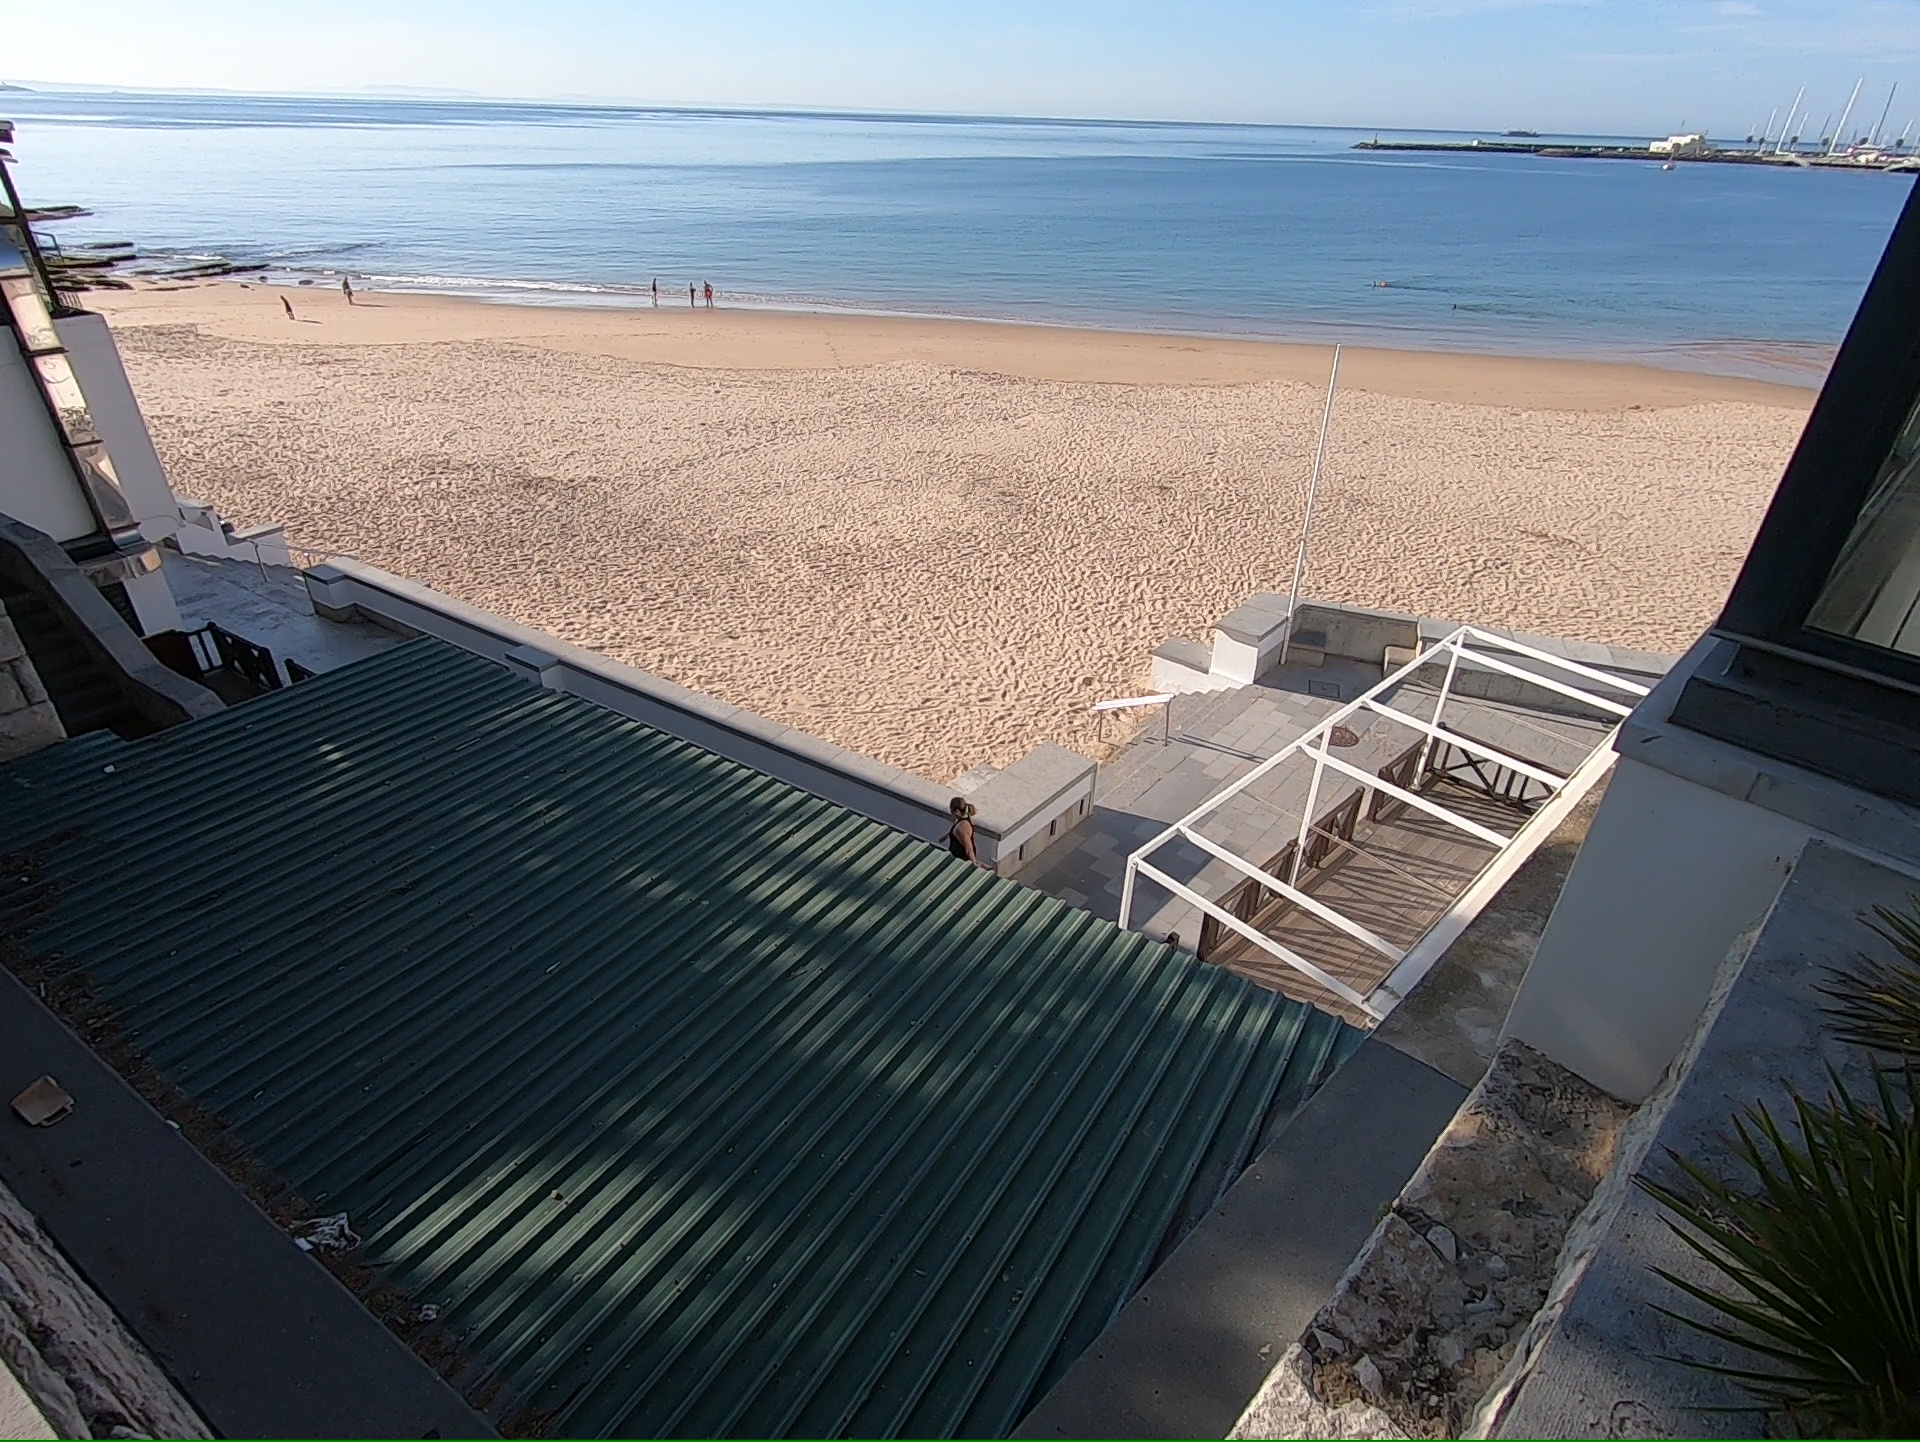person: (942, 790, 979, 859), (701, 279, 717, 308), (279, 294, 295, 320), (648, 277, 661, 305), (342, 275, 355, 306), (686, 282, 697, 306)
